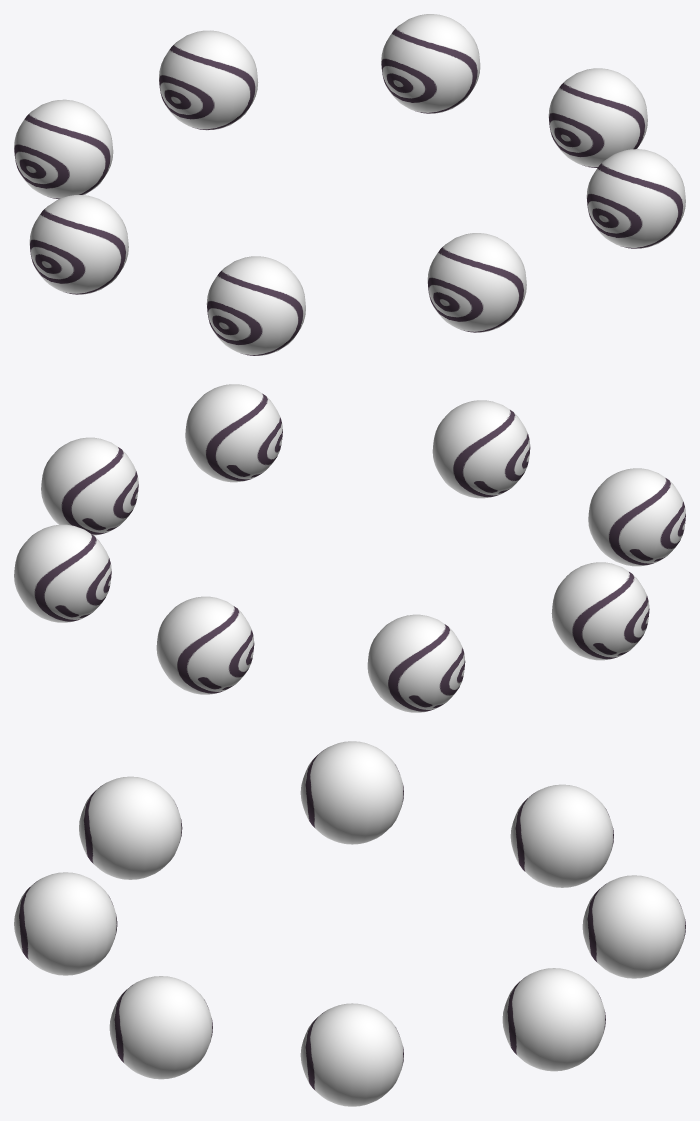
The model's file is ENEMY_RING.obj.
3 views of the same model, one above another, from view 1: azimuth 30°, elevation 25°; view 2: azimuth 150°, elevation 25°; view 3: azimuth 270°, elevation 25° (orthographic). The views are drawn at different scales.
Parts seen in each view (by area): view 1: ring pSphere8, ring pSphere6, ring pSphere3, enemy01:pSphere1 ring, ring pSphere1, ring pSphere4, ring pSphere5, ring pSphere2; view 2: ring pSphere1, ring pSphere5, ring pSphere3, enemy01:pSphere1 ring, ring pSphere4, ring pSphere6, ring pSphere8, ring pSphere2; view 3: ring pSphere1, enemy01:pSphere1 ring, ring pSphere8, ring pSphere2, ring pSphere3, ring pSphere4, ring pSphere5, ring pSphere6.
Part boxes in pixels (left/top/right/bottom): ring pSphere8: left=381, top=14, right=480, bottom=113; ring pSphere6: left=206, top=256, right=305, bottom=355; ring pSphere3: left=29, top=195, right=128, bottom=294; enemy01:pSphere1 ring: left=427, top=233, right=526, bottom=332; ring pSphere1: left=159, top=30, right=258, bottom=130; ring pSphere4: left=586, top=149, right=685, bottom=248; ring pSphere5: left=14, top=99, right=113, bottom=199; ring pSphere2: left=548, top=68, right=647, bottom=167; ring pSphere1: left=156, top=596, right=254, bottom=694; ring pSphere5: left=367, top=614, right=465, bottom=712; ring pSphere3: left=551, top=562, right=649, bottom=660; enemy01:pSphere1 ring: left=432, top=400, right=530, bottom=498; ring pSphere4: left=185, top=384, right=282, bottom=482; ring pSphere6: left=588, top=468, right=685, bottom=566; ring pSphere8: left=14, top=524, right=111, bottom=622; ring pSphere2: left=41, top=437, right=138, bottom=535; ring pSphere1: left=582, top=875, right=685, bottom=978; enemy01:pSphere1 ring: left=14, top=872, right=117, bottom=975; ring pSphere8: left=502, top=968, right=605, bottom=1071; ring pSphere2: left=300, top=1003, right=403, bottom=1106; ring pSphere3: left=300, top=741, right=403, bottom=844; ring pSphere4: left=109, top=976, right=212, bottom=1079; ring pSphere5: left=510, top=784, right=613, bottom=887; ring pSphere6: left=79, top=776, right=182, bottom=879.
Size of the model in its own units: 7 by 1 by 6.5.
Materials: 1 (1 with a texture image).
